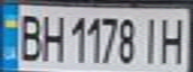1: (66, 12, 87, 63), (84, 14, 103, 63)
7: (100, 13, 118, 64)
8: (115, 14, 142, 65)
B: (12, 10, 45, 62)
H: (157, 12, 190, 65), (36, 11, 66, 63)
I: (139, 14, 166, 65)
